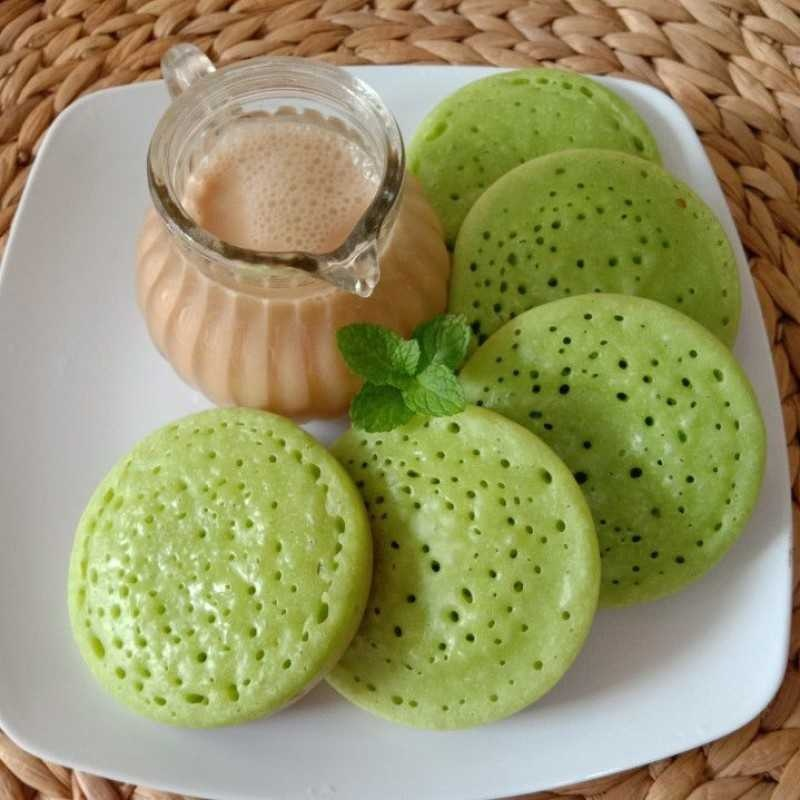srabi: (74, 404, 370, 735)
